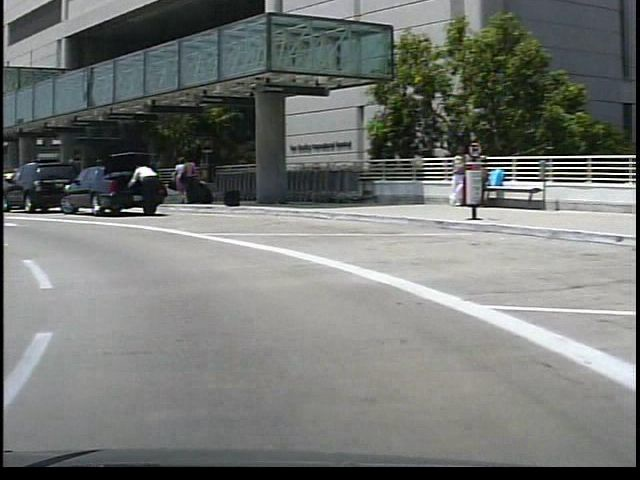person: (122, 163, 159, 222), (178, 155, 196, 209), (167, 158, 184, 207)
